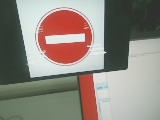stop: (30, 4, 102, 68)
